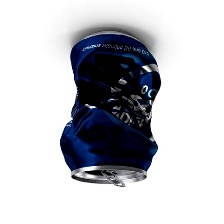can: (56, 27, 168, 188)
